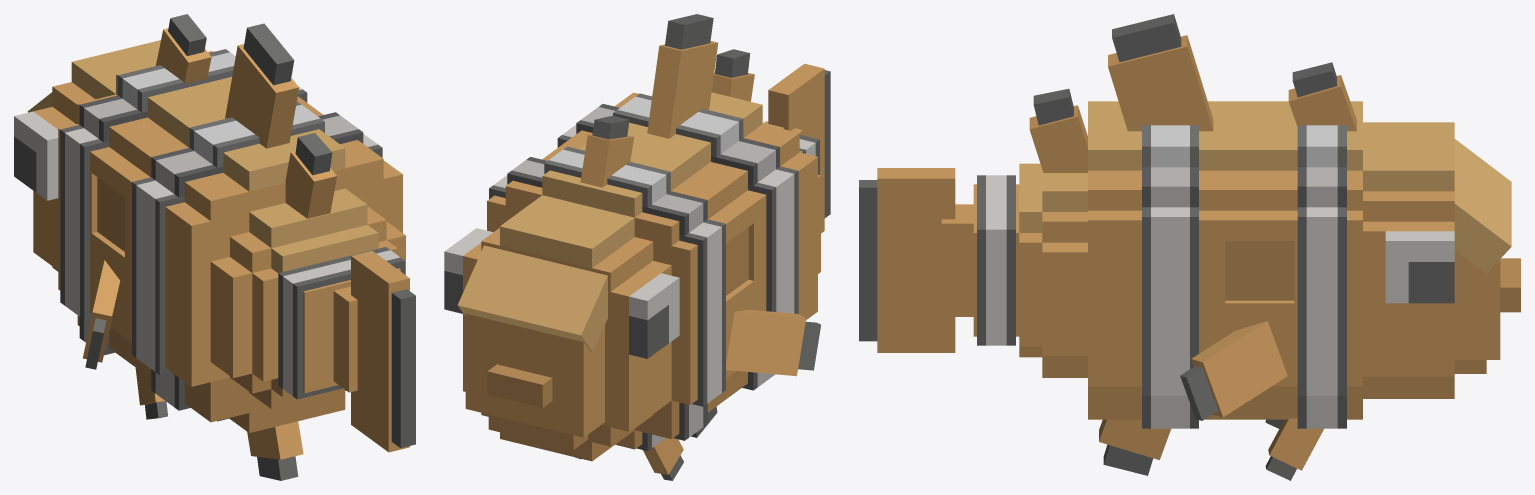
Rendered from Clownfish.glb.
3 views of the same model, side by side, from view 1: azimuth 30°, elevation 25°; view 2: azimuth 150°, elevation 25°; view 3: azimuth 270°, elevation 25° (orthographic). The views are drawn at different scales.
Parts seen in each view (by area): view 1: S3, S2, S1, Tail, Head, S4; view 2: Head, S1, S2, S3, Tail, S4; view 3: S1, S2, Head, S3, Tail, S4.
Boxes of the visible parts, x1,y1,x2,y2 form: S3: (180,133,405,432); S2: (125,23,391,480); S1: (58,14,316,419); Tail: (333,251,415,452); Head: (14,40,160,271); S4: (278,247,404,399); Head: (444,195,679,461); S1: (487,115,820,480); S2: (557,14,807,437); S3: (623,49,820,318); Tail: (764,63,830,233); S4: (799,135,819,174); S1: (1180,62,1362,480); S2: (1099,14,1225,475); Head: (1363,122,1520,398); S3: (1019,88,1110,419); Tail: (859,168,973,352); S4: (973,175,1019,345).
Bounding box in the file's own units: 5.71 × 7.64 × 10.11.
